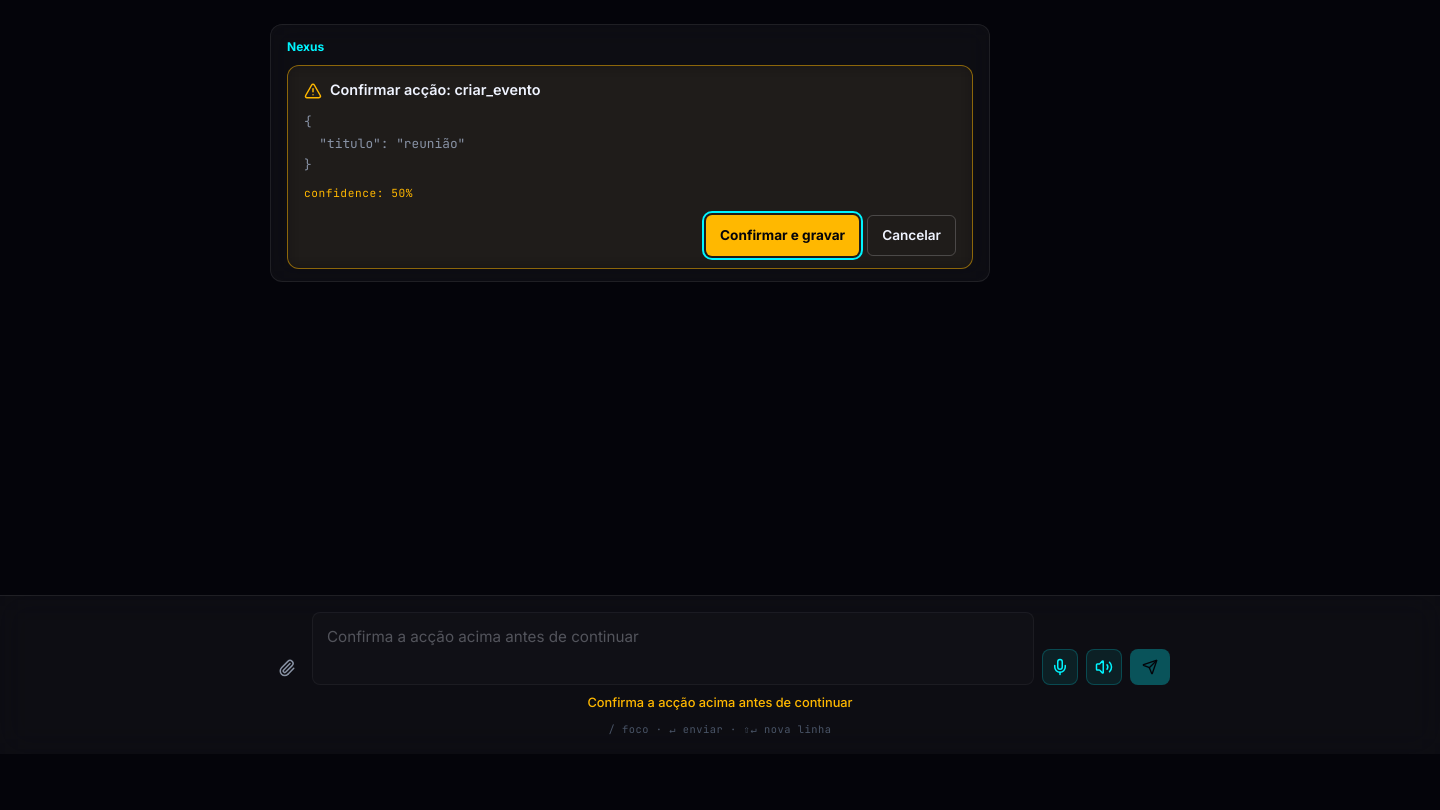
Test case: ChatPanel — preview error handling (Story 1.9 Iter 2 Minor #4) › erro 500 do POST /api/agent/confirm é surfaced via banner aria-alert
The image size is (1440, 810).
What coordinates should you click on to do the following:
click the button with aria-label "confirmar e gravar acção"
I would click on:
 (783, 236)
Its box is [706, 215, 859, 256].
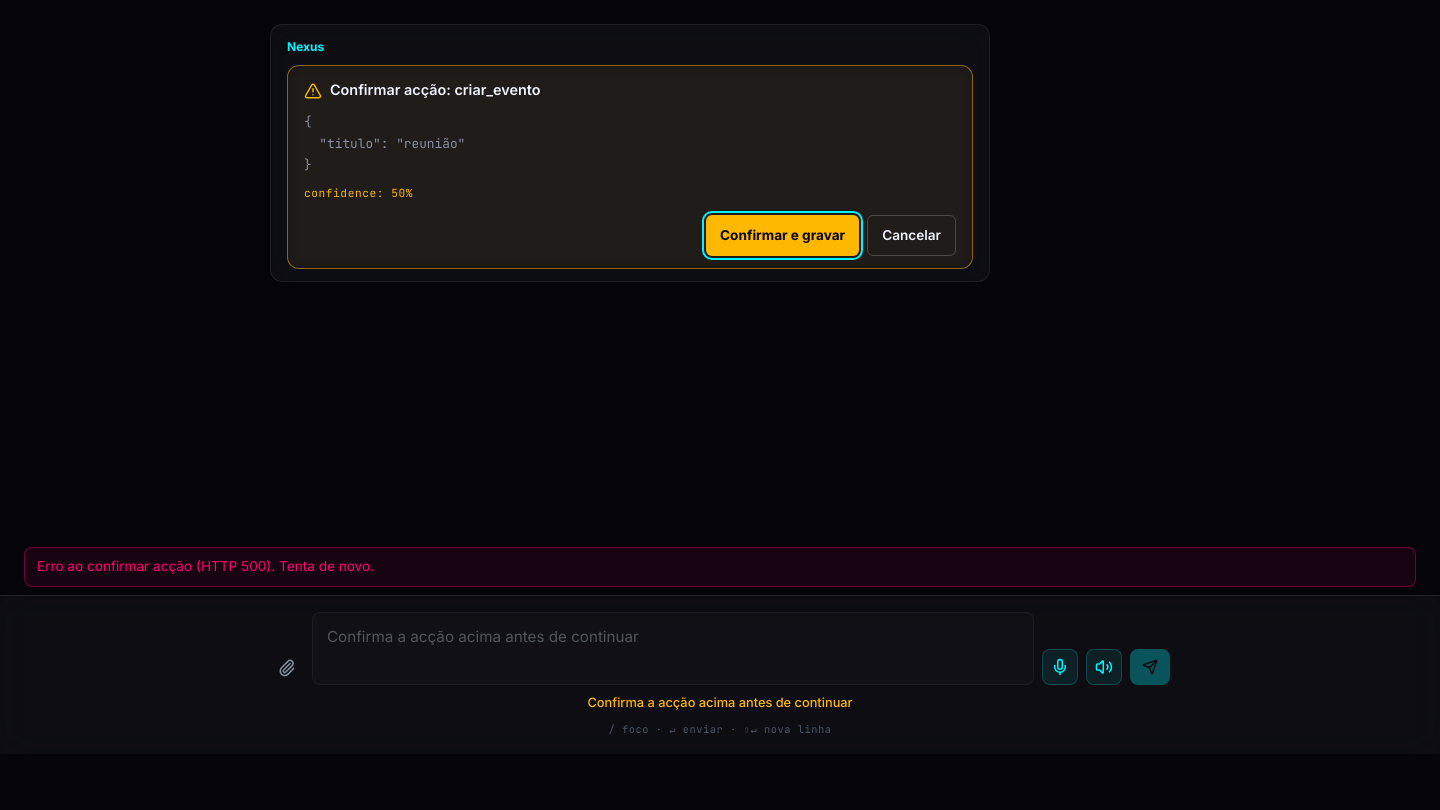
Now the text "Erro ao confirmar acção (HTTP 500). Tenta de novo." is shown, box [24, 547, 1416, 587]
